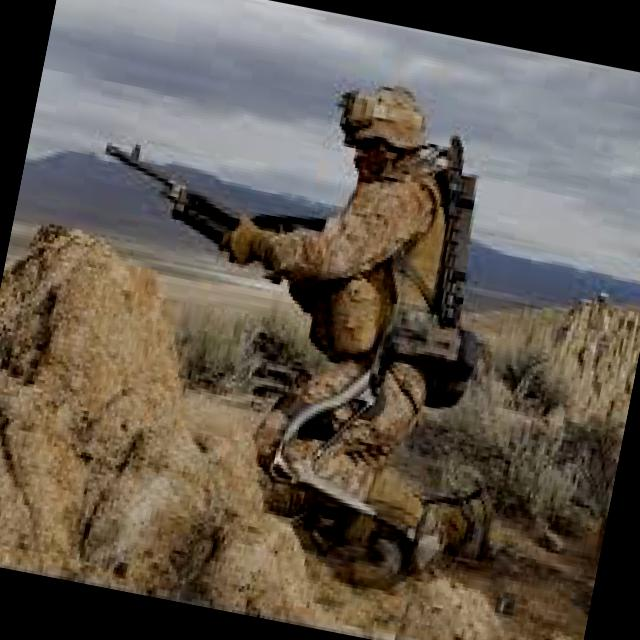long weapon: (86, 132, 329, 284)
